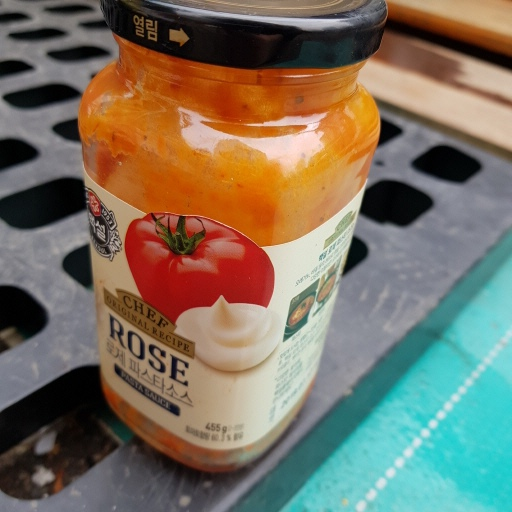Glass_5: (76, 1, 389, 474)
